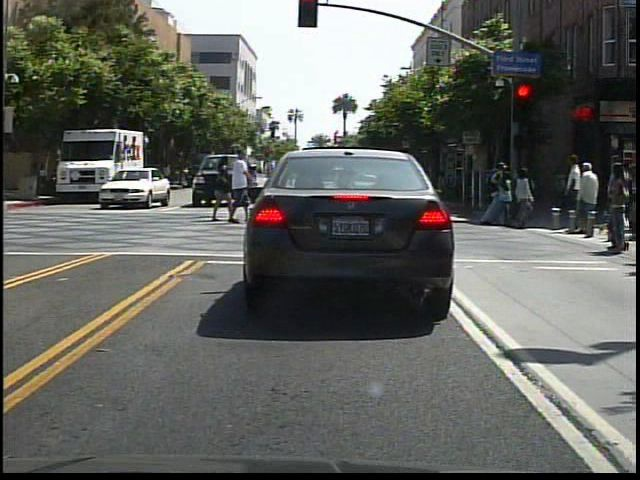person: (567, 158, 604, 246), (223, 153, 257, 230), (333, 156, 366, 218), (210, 151, 235, 229)
